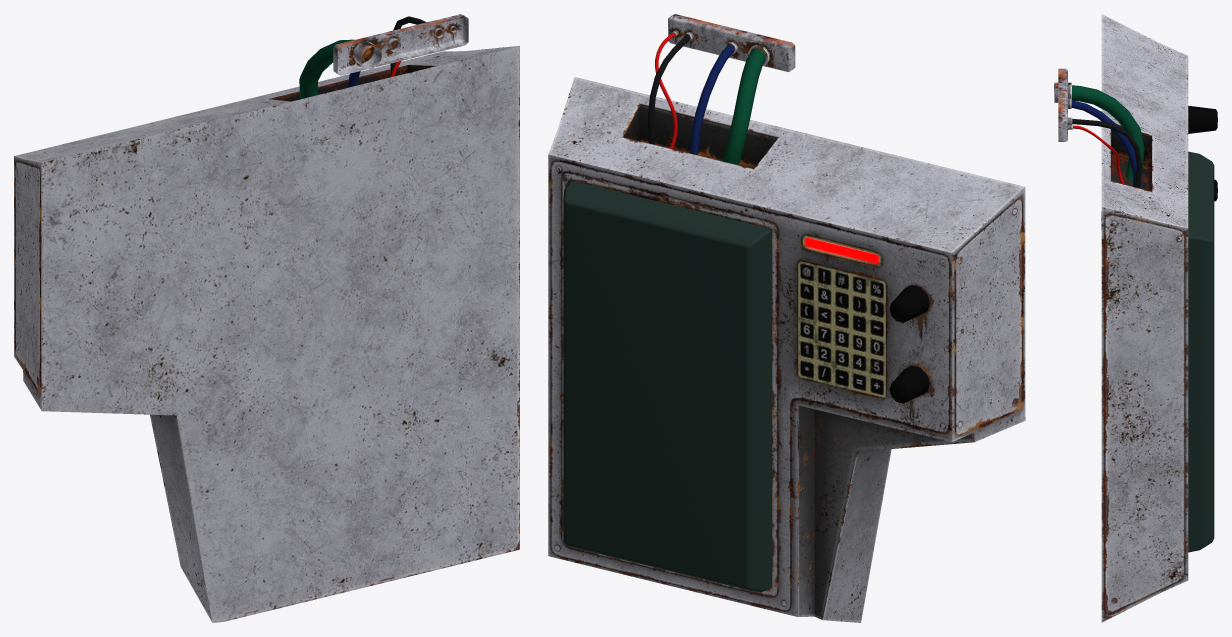
The model's file is control_low.glb.
3 renders of one model, left to right at view 1: azimuth 30°, elevation 25°; view 2: azimuth 150°, elevation 25°; view 3: azimuth 270°, elevation 25°, orthographic. The views are drawn at different scales.
Parts seen in each view (by area): view 1: base_low, panel_low, part3_low; view 2: base_low, monitor_low, panel_low, part3_low, part1_low, bot1_low, bot2_low, part4_low; view 3: base_low, monitor_low, part3_low, part1_low, bot2_low, panel_low, part4_low, part2_low.
Part boxes in pixels (left/top/right/bottom): base_low: left=14, top=46, right=519, bottom=622; panel_low: left=333, top=14, right=468, bottom=75; part3_low: left=299, top=39, right=381, bottom=99; base_low: left=548, top=77, right=1025, bottom=622; monitor_low: left=563, top=180, right=771, bottom=592; panel_low: left=668, top=14, right=795, bottom=72; part3_low: left=722, top=44, right=769, bottom=165; part1_low: left=689, top=41, right=737, bottom=155; bot1_low: left=889, top=365, right=929, bottom=403; bot2_low: left=889, top=285, right=929, bottom=322; part4_low: left=648, top=32, right=693, bottom=144; base_low: left=1101, top=14, right=1188, bottom=622; monitor_low: left=1188, top=151, right=1214, bottom=552; part3_low: left=1054, top=82, right=1144, bottom=180; part1_low: left=1068, top=98, right=1140, bottom=188; bot2_low: left=1188, top=105, right=1217, bottom=133; panel_low: left=1058, top=68, right=1067, bottom=141; part4_low: left=1068, top=117, right=1142, bottom=188; part2_low: left=1068, top=124, right=1124, bottom=184.
Bounding box in the file's own units: 2.04 × 2.32 × 0.7312.
1 material, 1 textured.
